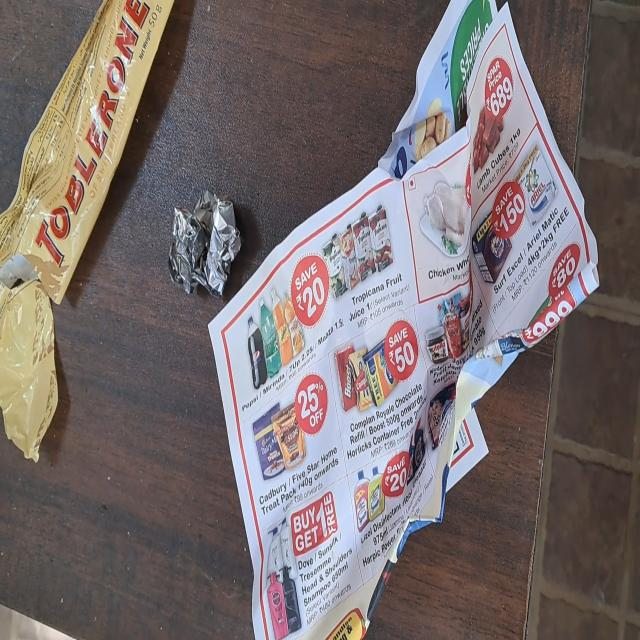Anorganik: (0, 0, 162, 461), (167, 196, 242, 300)
Organik: (289, 0, 598, 481)
